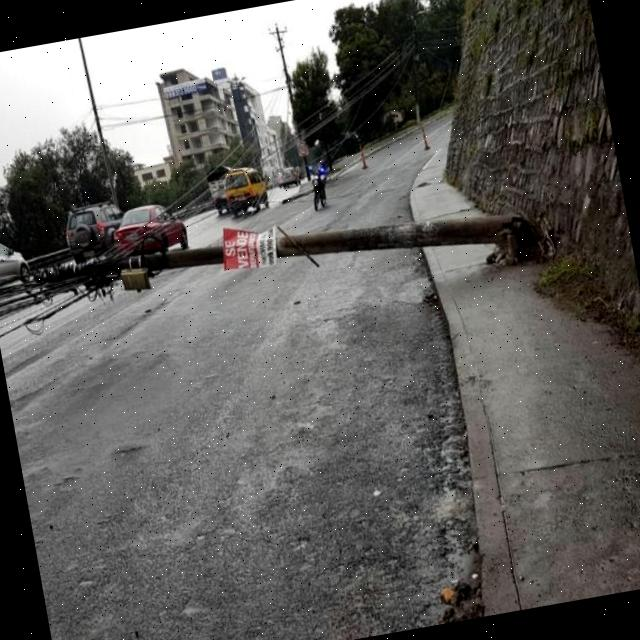Broken Pole: (22, 209, 533, 300)
